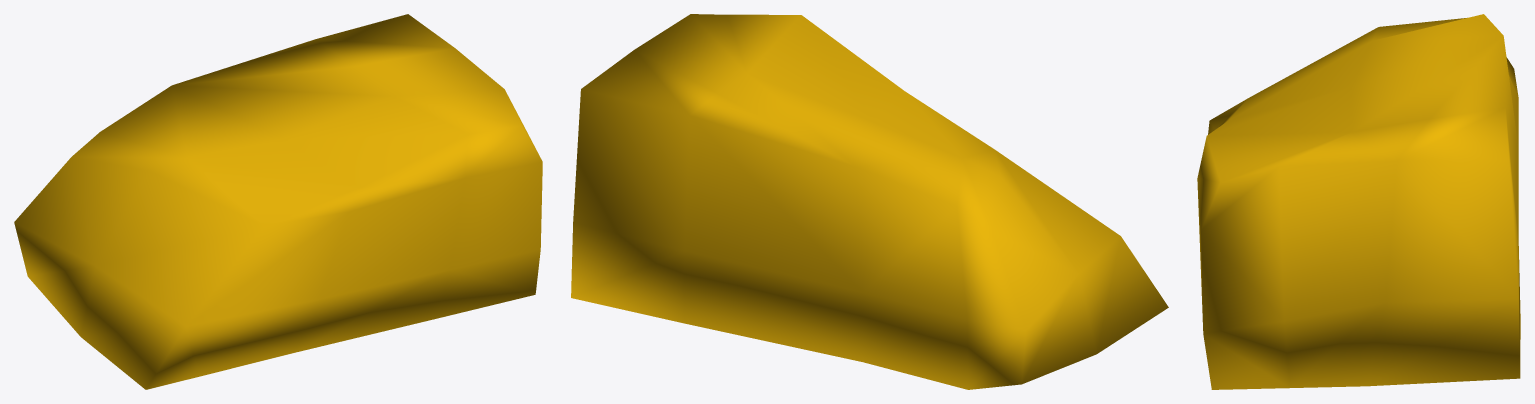
The model's file is Stone_Block_06_Lod1.fbx.
3 renders of one model, left to right at view 1: azimuth 30°, elevation 25°; view 2: azimuth 150°, elevation 25°; view 3: azimuth 270°, elevation 25°, orthographic. The views are drawn at different scales.
Visible parts, largest first — view 1: Stone_Block_06_Lod1; view 2: Stone_Block_06_Lod1; view 3: Stone_Block_06_Lod1.
Boxes of the visible parts, <box> form: Stone_Block_06_Lod1: <box>14,14,542,389</box>; Stone_Block_06_Lod1: <box>571,14,1168,389</box>; Stone_Block_06_Lod1: <box>1197,14,1520,389</box>.
Size of the model in its own units: 557 by 254 by 327.
